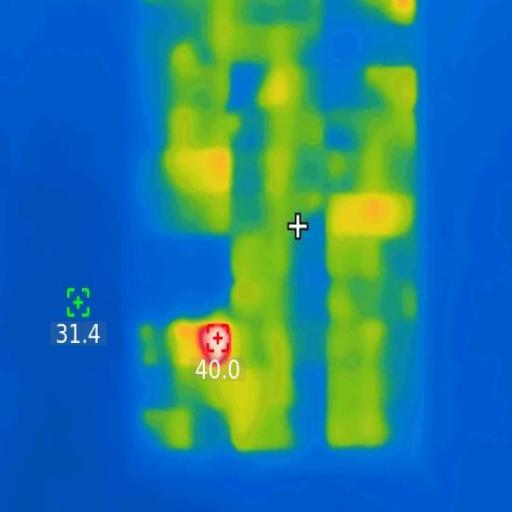hotspot: (198, 323, 234, 369)
